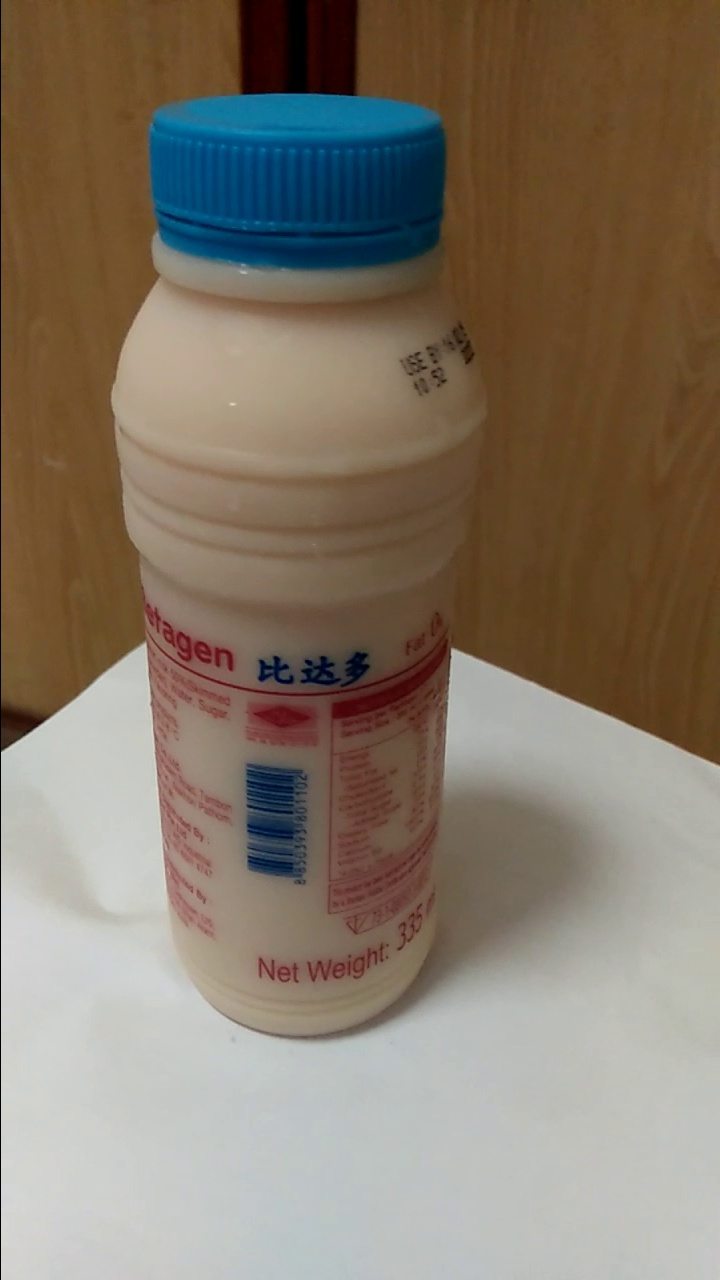mlik2: (127, 98, 462, 1045)
